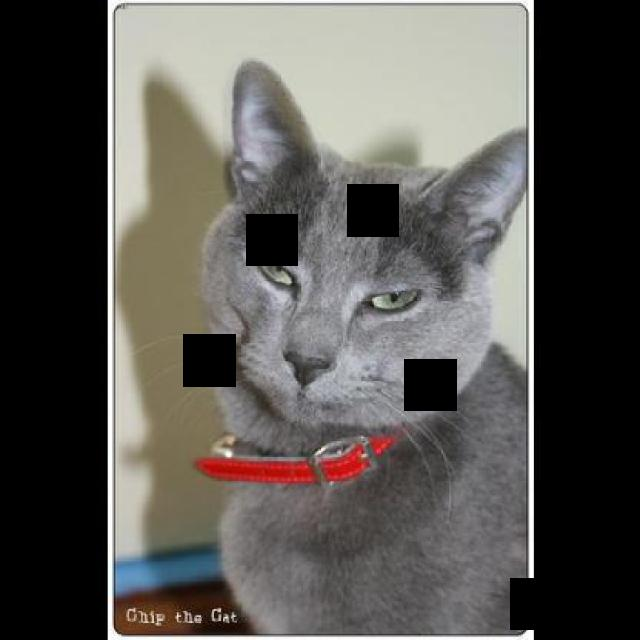unauthorized: (195, 57, 528, 635)
